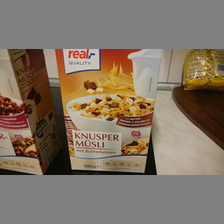cereal: (54, 49, 163, 172), (1, 49, 52, 176)
